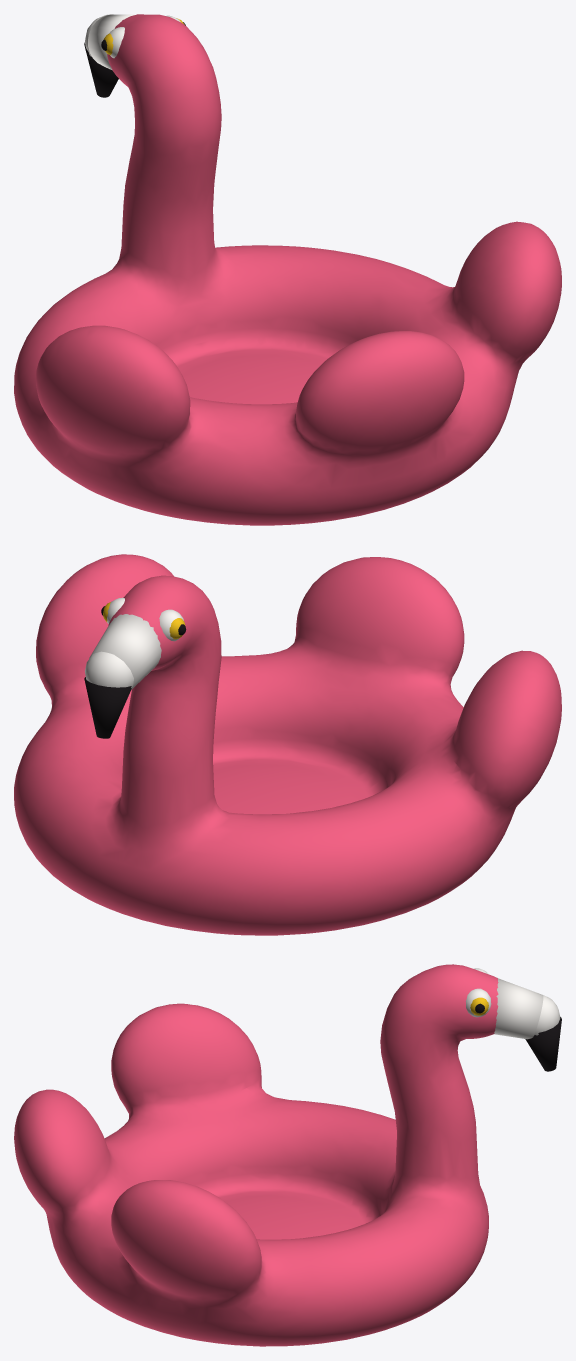
File: flamingo.glb
3 renders of one model, top to bottom at view 1: azimuth 30°, elevation 25°; view 2: azimuth 150°, elevation 25°; view 3: azimuth 270°, elevation 25°, orthographic. The views are drawn at different scales.
Parts seen in each view (by area): view 1: flamingo; view 2: flamingo; view 3: flamingo.
Boxes of the visible parts, bbox=[...] form: flamingo: bbox=[14, 14, 561, 525]; flamingo: bbox=[14, 554, 561, 935]; flamingo: bbox=[14, 964, 561, 1346].
Bounding box in the file's own units: 1.51 × 1 × 1.64.
